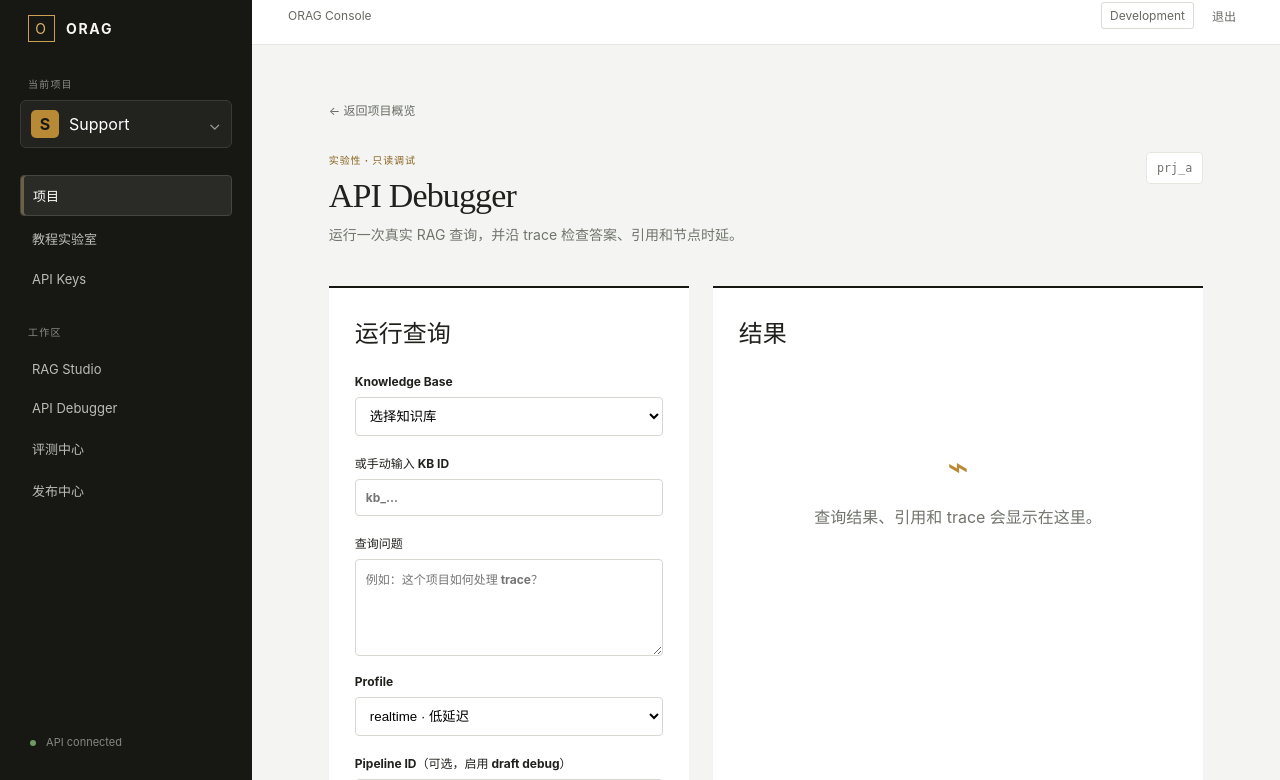
Test: API Debugger › runs a query and reveals its trace
Select "Support · kb_a" in the dropdown labelled "Knowledge Base" at (509, 416), box [355, 397, 663, 436]
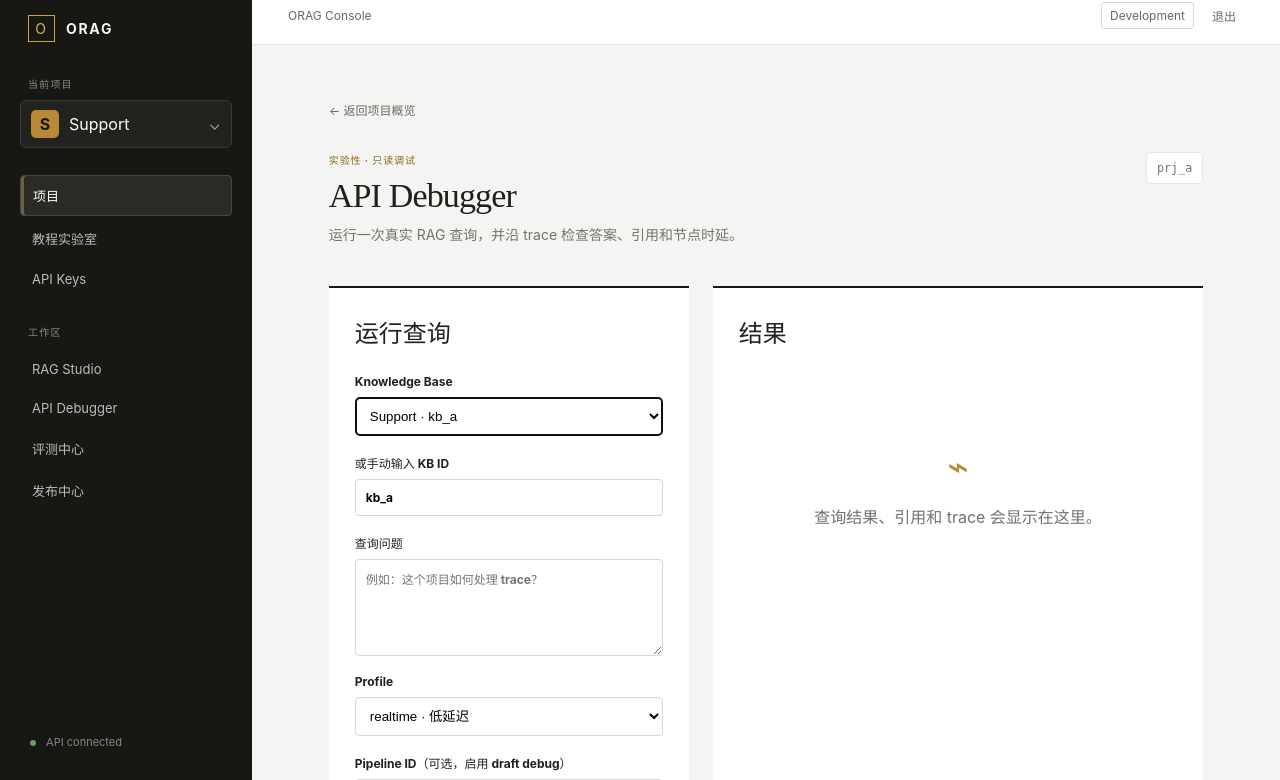
Type "如何查看 trace？" into the text box labelled "查询问题" at (509, 608), box [355, 559, 663, 656]
(page scrolled)
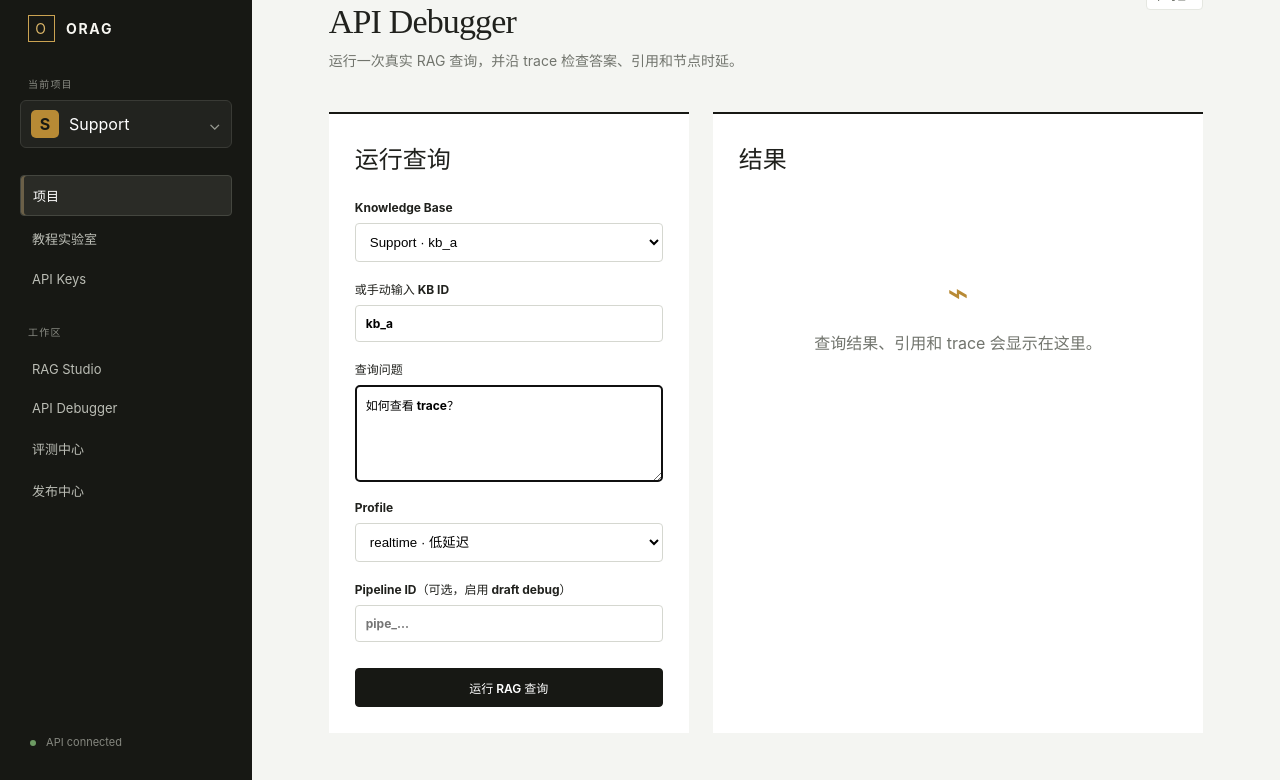
Click the button "运行 RAG 查询" at (509, 688), box [355, 668, 663, 707]
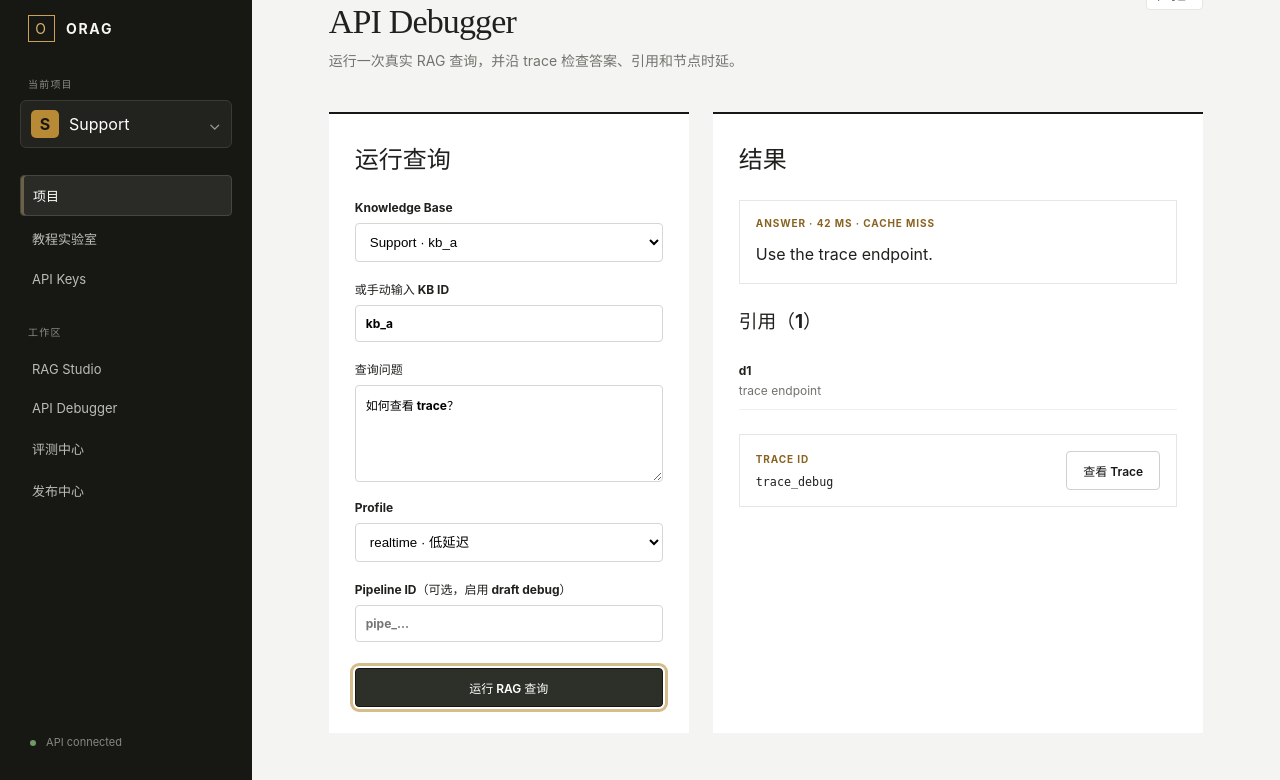
Expected: the text "Use the trace endpoint." is shown, [756, 244, 933, 264]
Click the button "查看 Trace" at (1113, 471), box [1066, 451, 1160, 490]
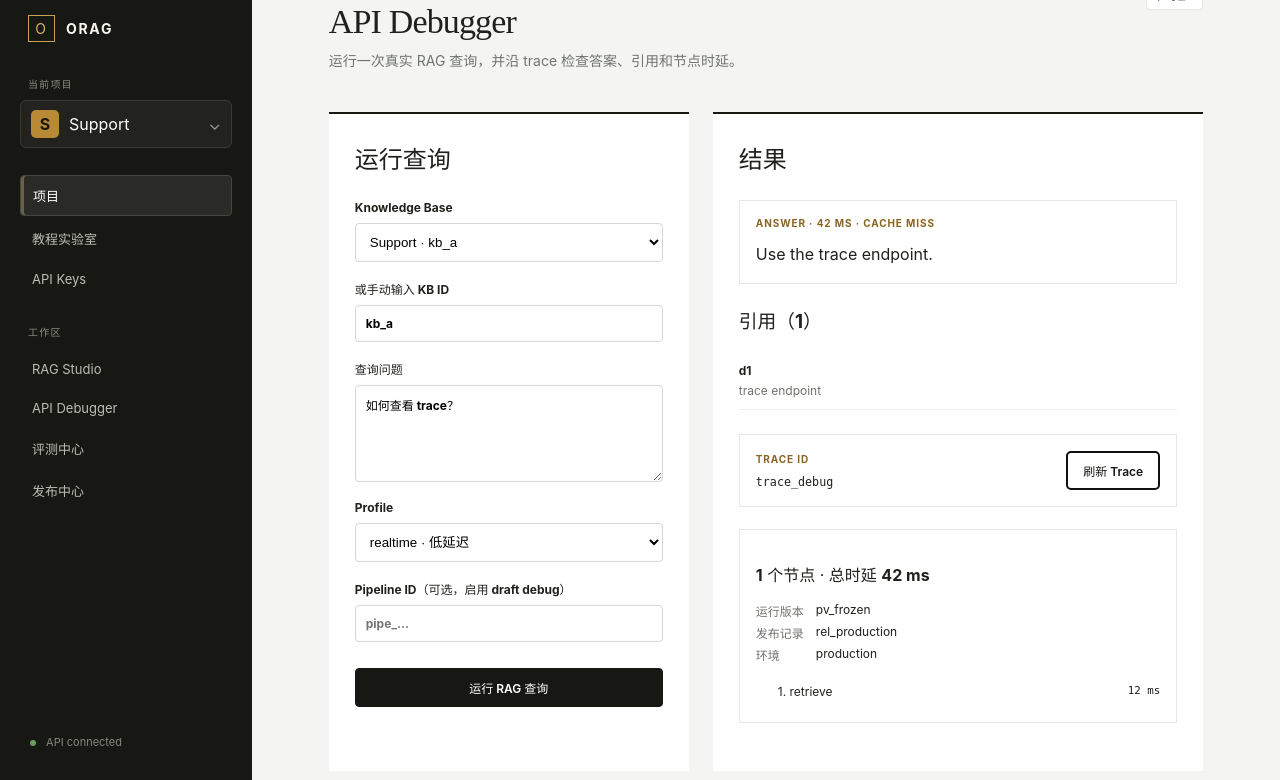
Expected: the text "1. retrieve" is shown, [778, 684, 833, 699]
Expected: the text "retrieve" shows "1 个节点", [739, 529, 1177, 723]
Expected: the text "pv_frozen" is shown, [816, 602, 870, 617]
